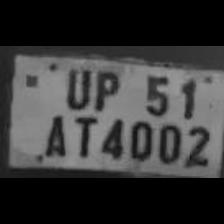0: (124, 114, 154, 162), (154, 120, 182, 164)
1: (173, 74, 199, 118)
2: (180, 122, 212, 168)
4: (96, 114, 126, 160)
5: (139, 71, 171, 116)
A: (38, 108, 68, 158)
P: (90, 64, 120, 110)
T: (68, 110, 96, 156)
U: (61, 62, 93, 108)
